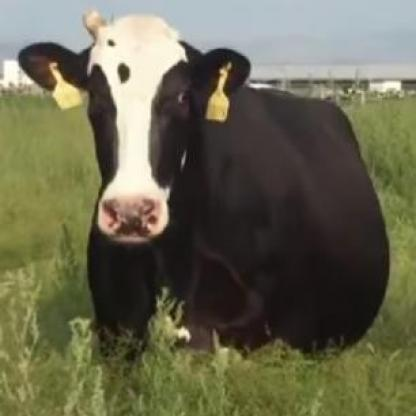cow: (18, 19, 388, 358)
